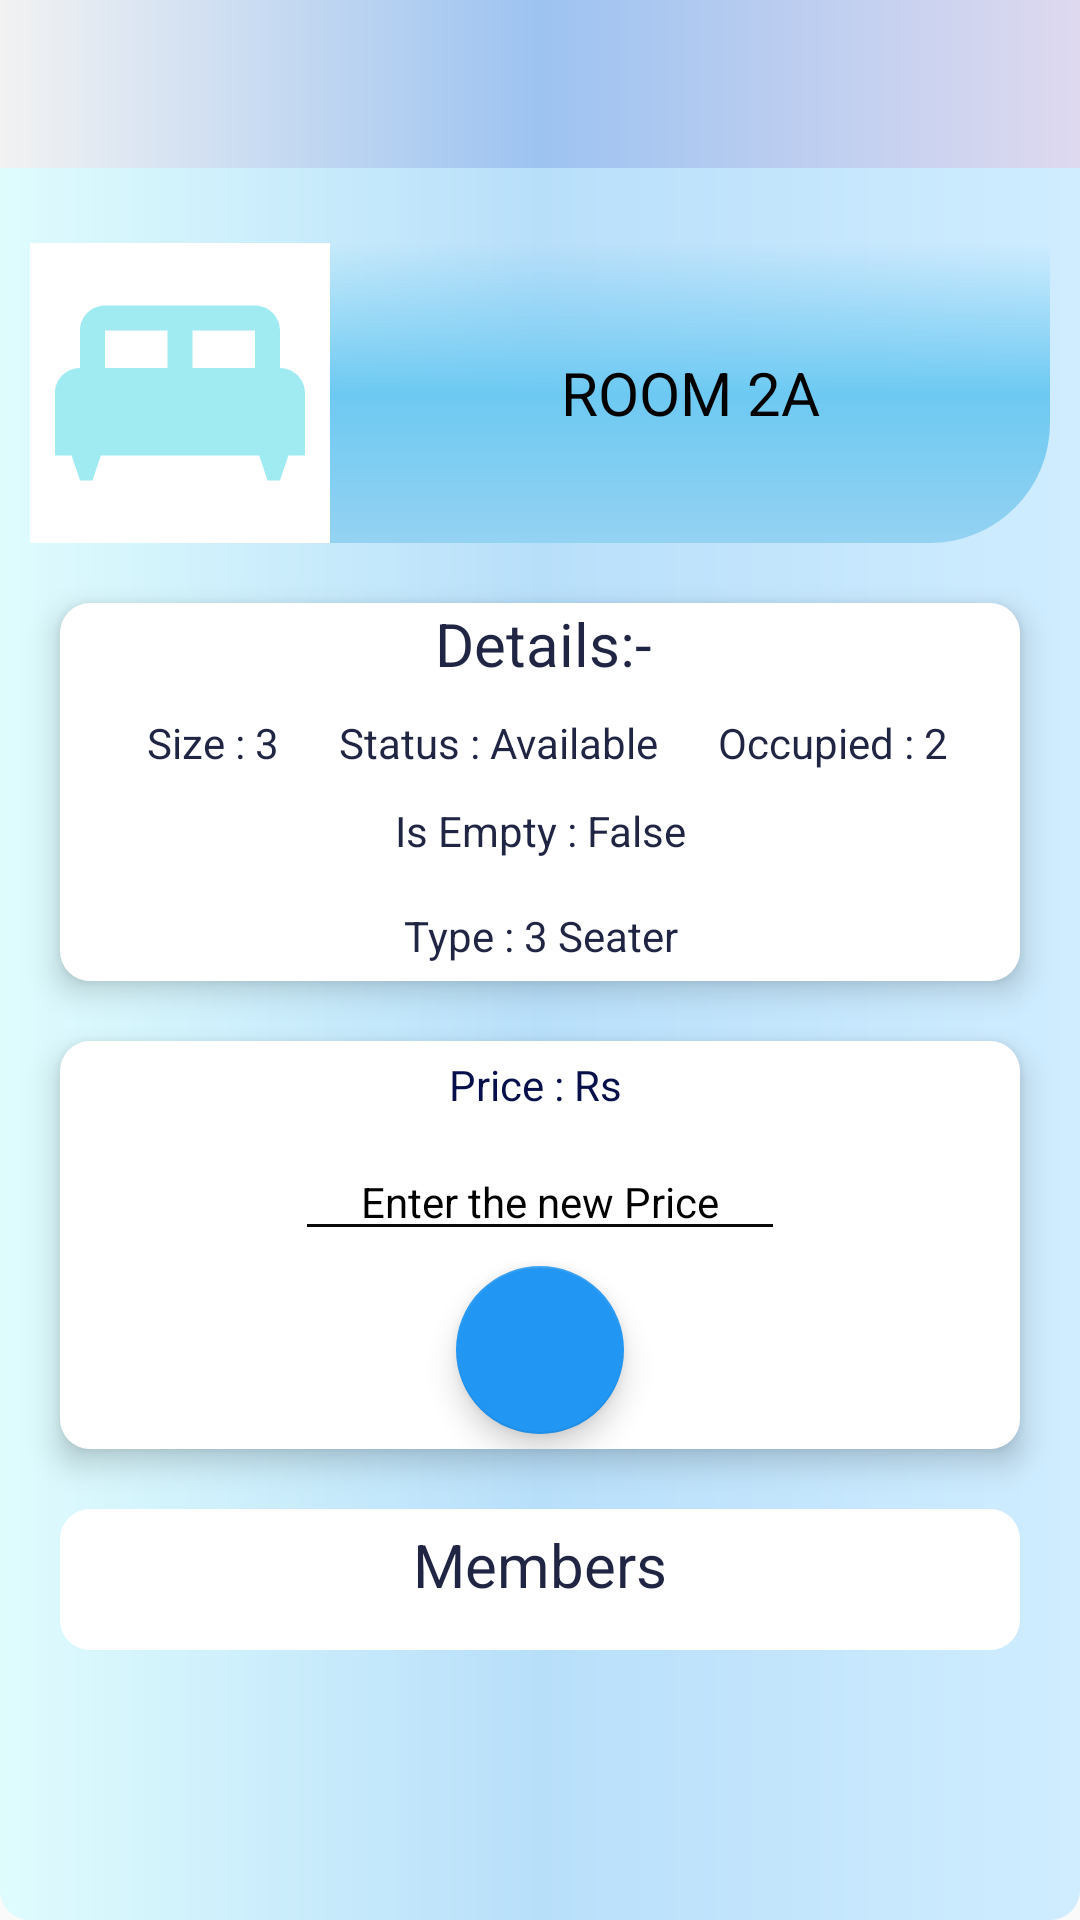

Icon click points for this 1080*1920 phone screenshot, format [x,y]:
king bed: [180,393]
